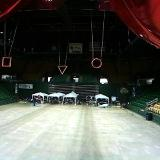Orange_Circle_GShape: (91, 58, 103, 68)
Orange_Square_GShape: (2, 56, 12, 67)
Orange_Triangle_Gshape: (57, 66, 68, 76)
